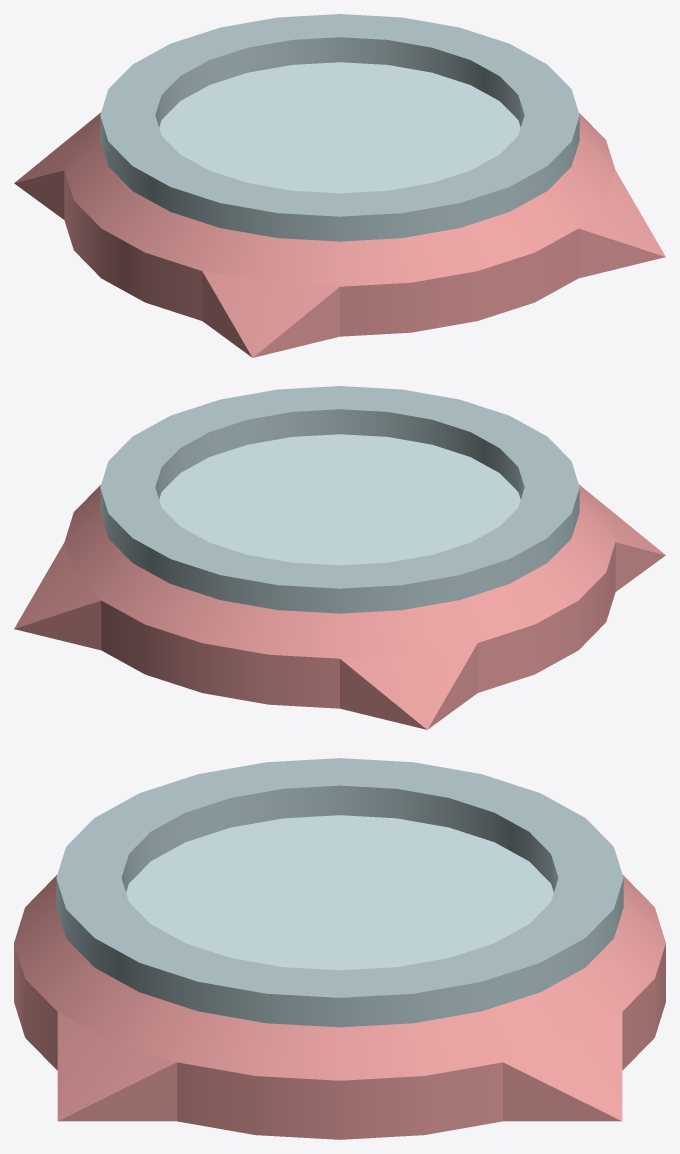
The model's file is tower_base.gltf.
3 renders of one model, top to bottom at view 1: azimuth 30°, elevation 25°; view 2: azimuth 150°, elevation 25°; view 3: azimuth 270°, elevation 25°, orthographic. The views are drawn at different scales.
Visible parts, largest first — view 1: towerRound_base; view 2: towerRound_base; view 3: towerRound_base.
Boxes of the visible parts, left/top/right/bottom form: towerRound_base: left=14, top=14, right=665, bottom=357; towerRound_base: left=14, top=386, right=665, bottom=729; towerRound_base: left=14, top=758, right=665, bottom=1139.
Bounding box in the file's own units: 1 × 0.21 × 1.
